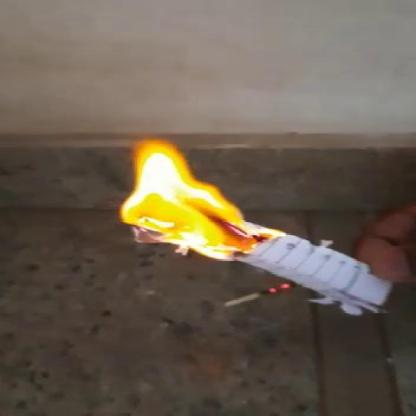Fire: (122, 137, 261, 262)
